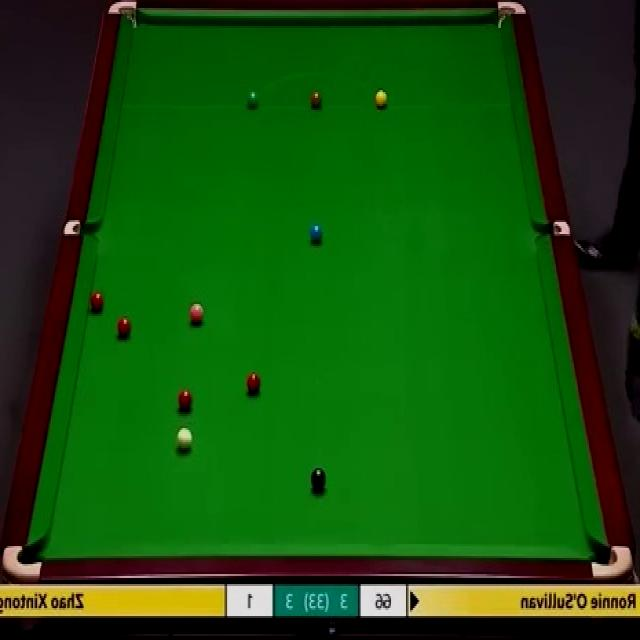pocket: (589, 543, 635, 582), (3, 540, 43, 583), (110, 0, 139, 32), (497, 0, 527, 28), (533, 220, 571, 237), (66, 220, 100, 235)
